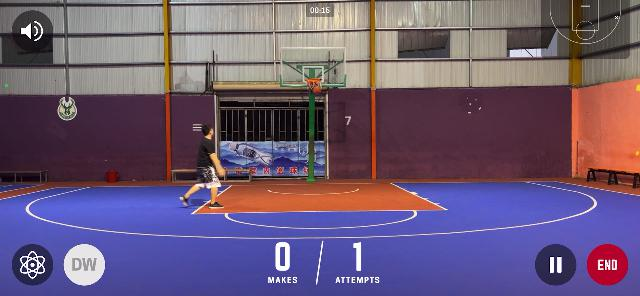basket: (304, 77, 322, 95)
goal: (311, 84, 321, 94)
